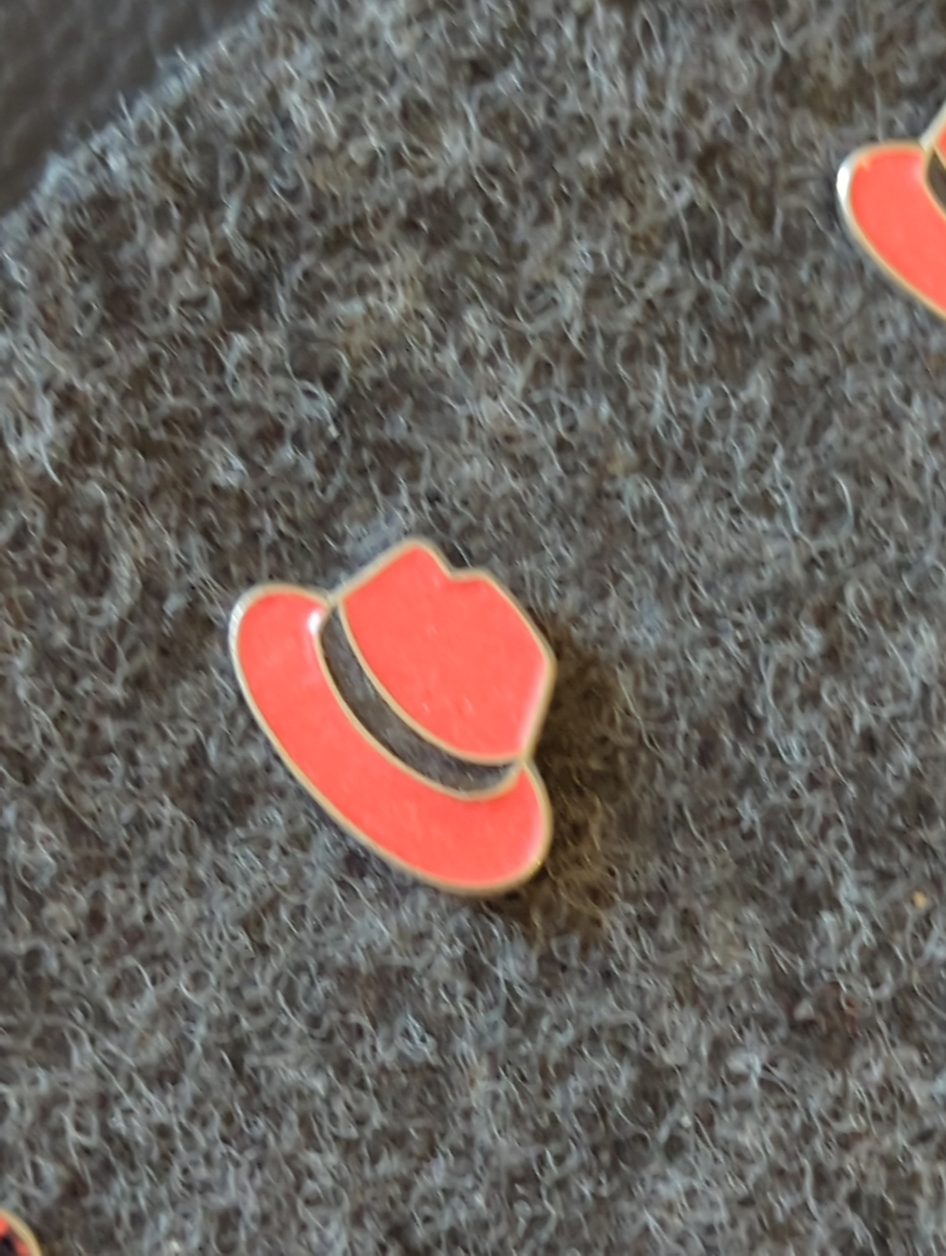Red-Hat: (130, 438, 774, 1001)
